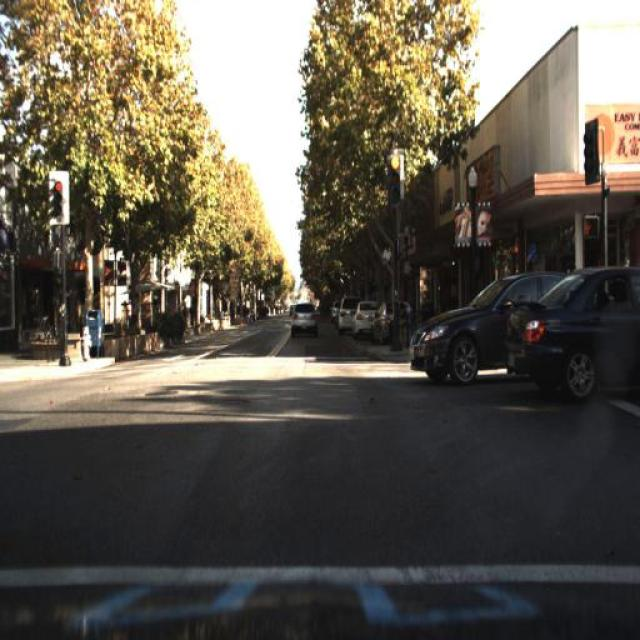car: (407, 262, 584, 390), (506, 263, 640, 407), (284, 286, 326, 343), (376, 297, 416, 343)
trafficLight-RedLeft: (49, 170, 67, 220), (386, 148, 402, 204)
